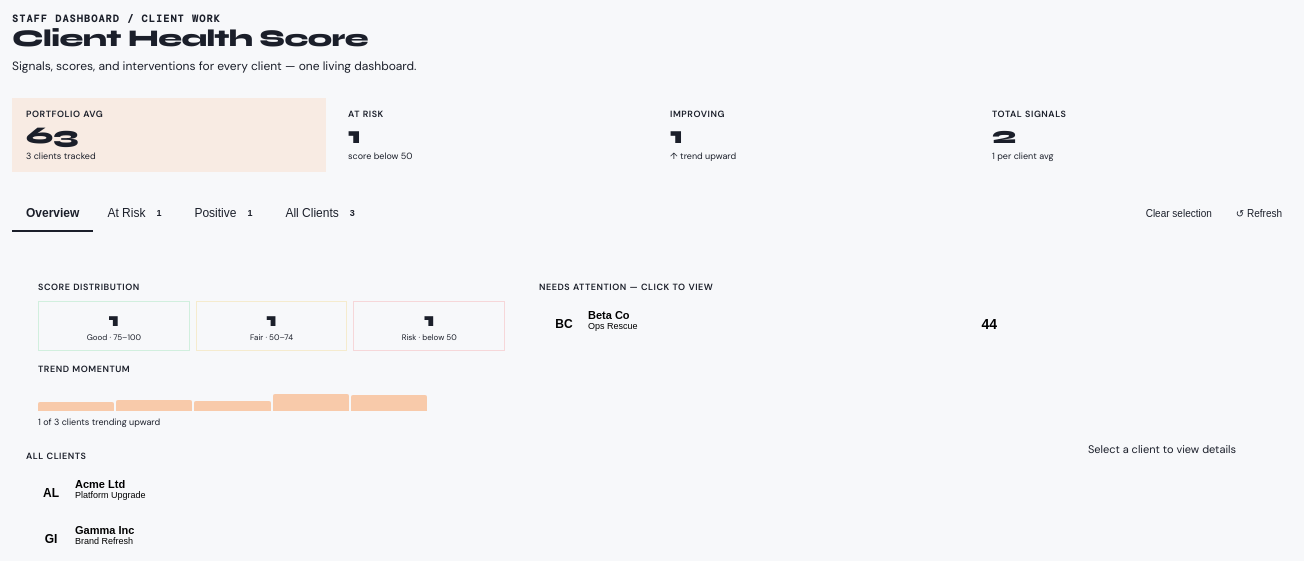
Test case: ClientHealthPage — tab navigation › switches to All Clients tab on click
This screenshot has width=1304, height=561.
Check: the text "Acme Ltd" is shown, box [75,478,125,490]
Click the button "All Clients 3". click: (323, 214)
box: [272,196,374,232]
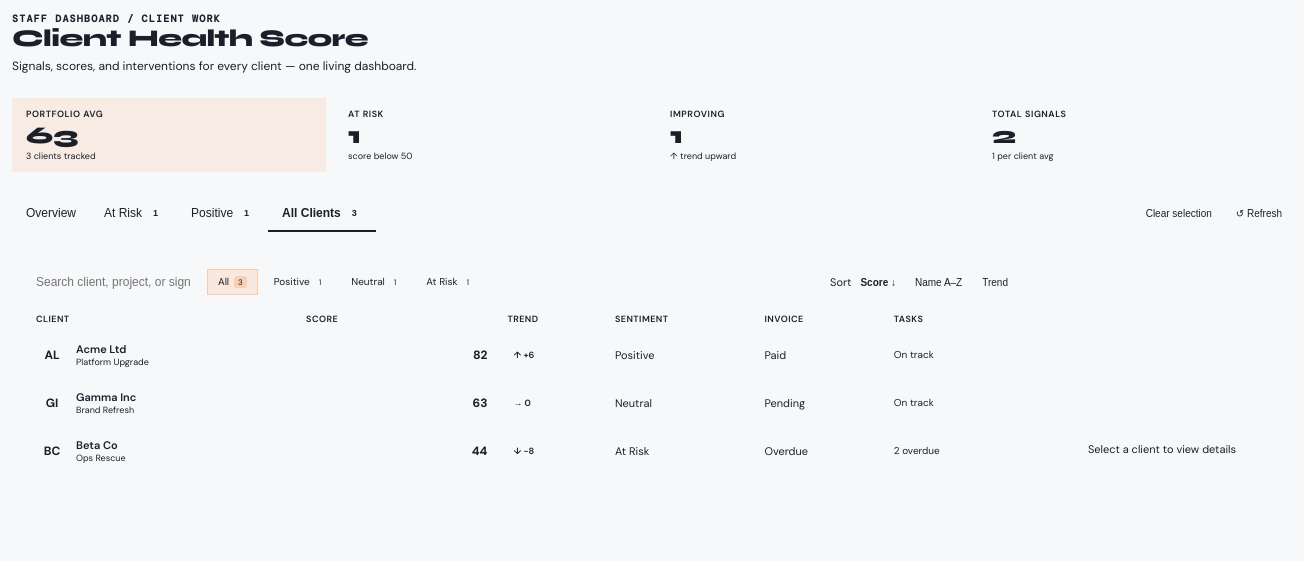
Check: the table is shown, box [26,307,1018,475]
